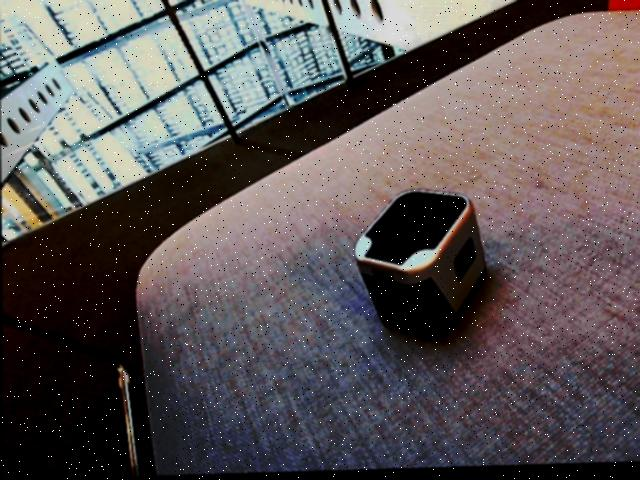adapter: (353, 190, 487, 343)
